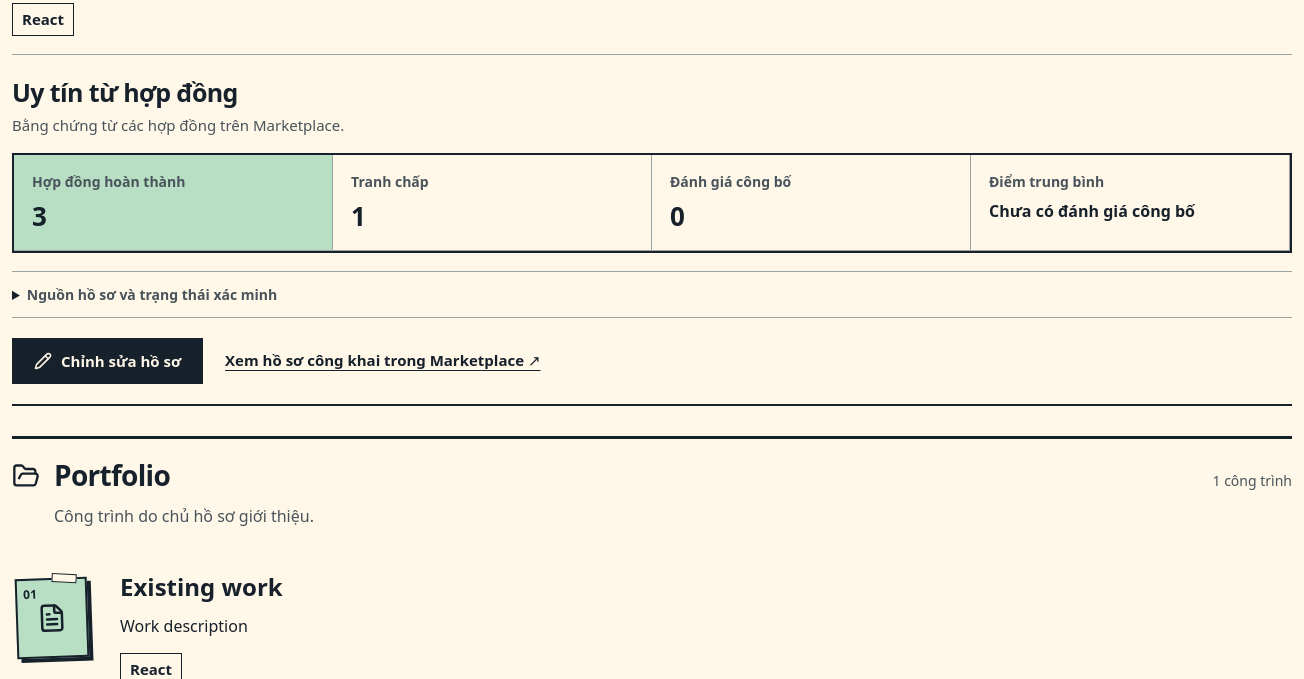
Scenario: Step 8 profile and portfolio UI › loads own profile and only Freelancer editing fields
The width and height of the screenshot is (1304, 679).
(page scrolled)
What coordinates should you click on to do the following:
click the button "Chỉnh sửa hồ sơ"
I would click on:
 (108, 361)
Its box is left=12, top=338, right=203, bottom=384.
(page scrolled)
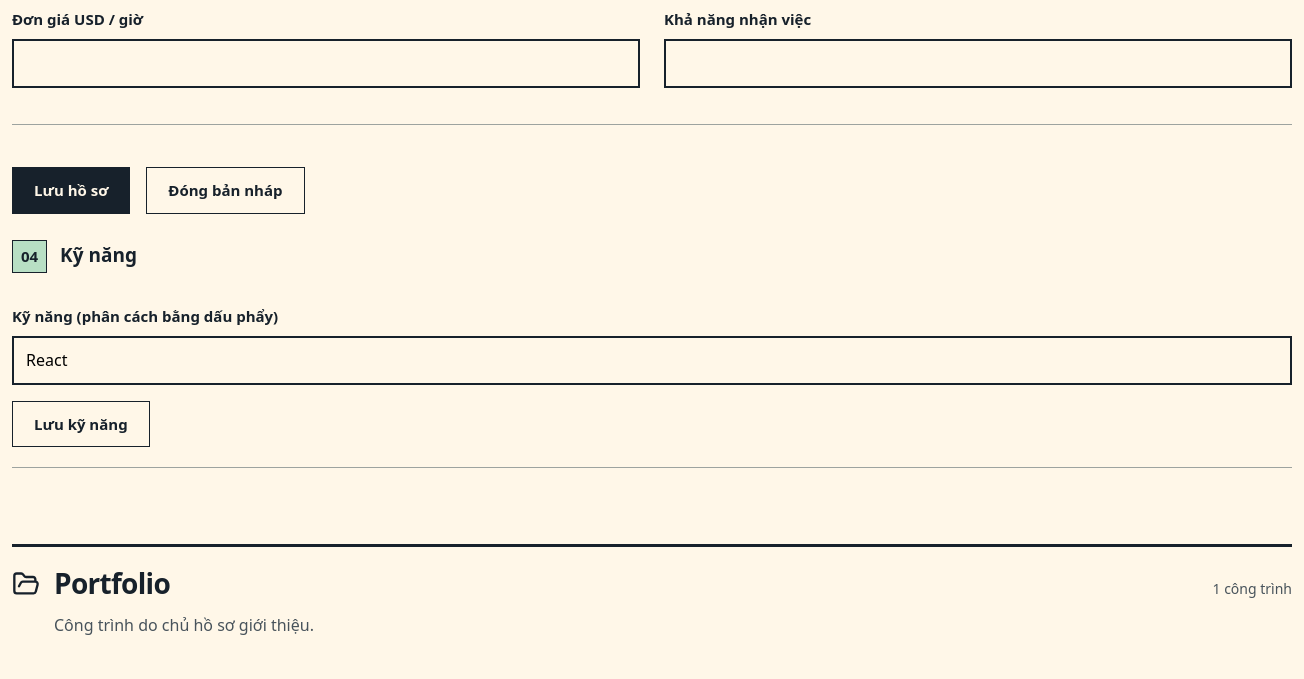
Now the number field labelled "Đơn giá USD / giờ" is shown, box left=12, top=40, right=640, bottom=88
Now the field labelled "Kỹ năng (phân cách bằng dấu phẩy)" is shown, box left=12, top=336, right=1292, bottom=385
